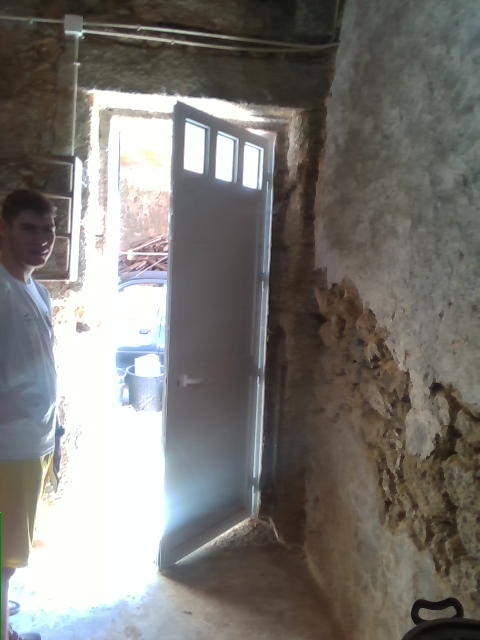semi: (69, 89, 331, 575)
